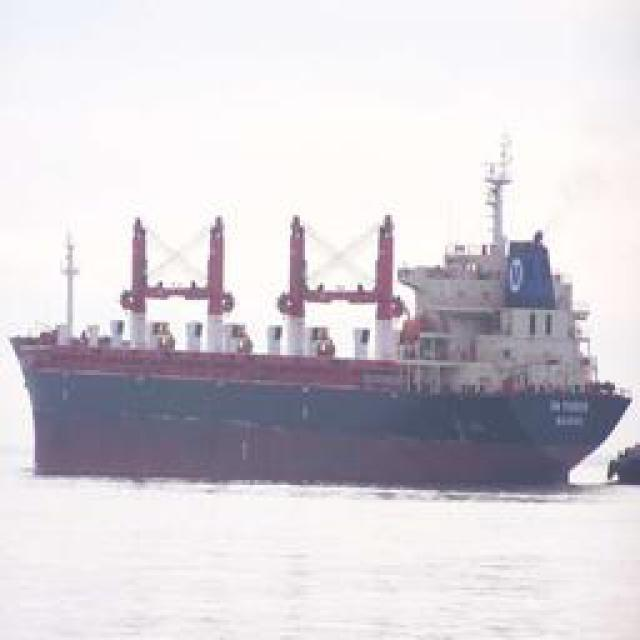Ship: (5, 215, 633, 463)
